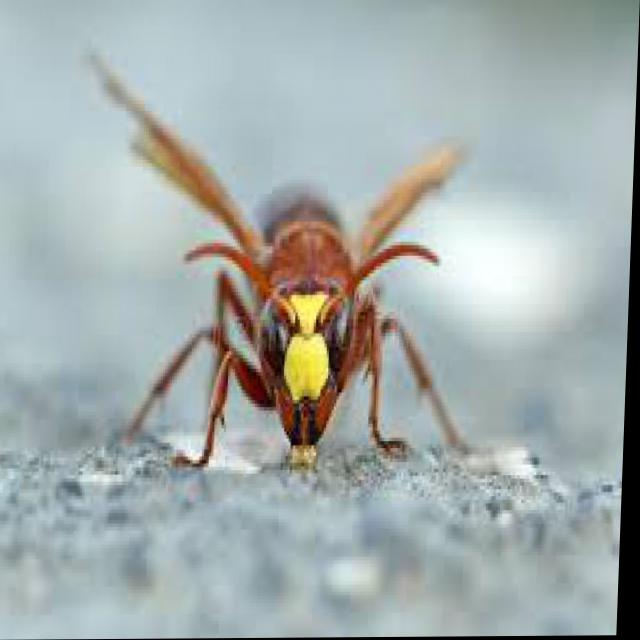Vespa Orientalis: (55, 26, 526, 506)
